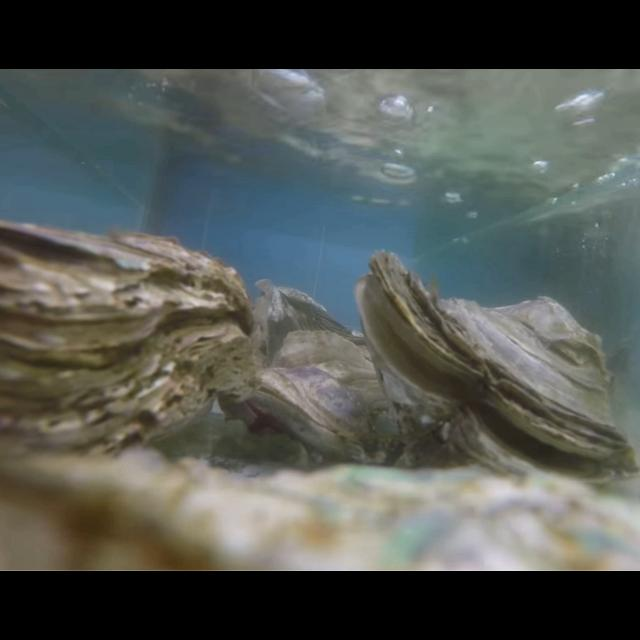Oyster-Closed: (0, 449, 640, 571), (0, 219, 256, 481), (254, 274, 370, 364)
Oyster-Open: (355, 248, 640, 492), (245, 332, 412, 471)
